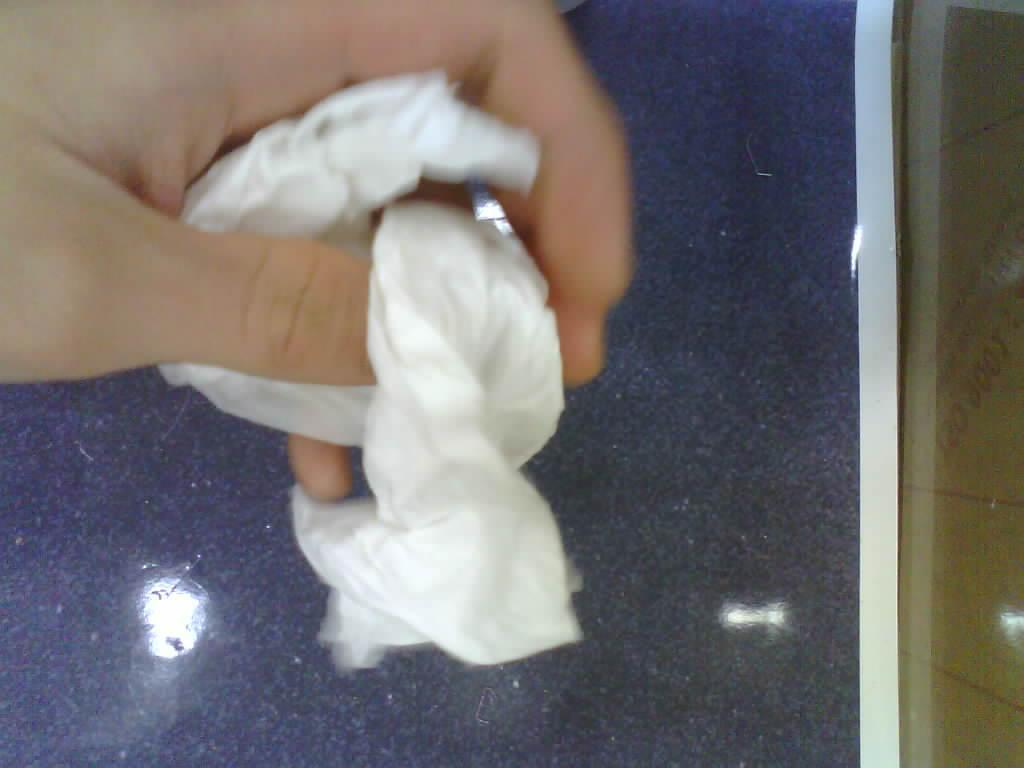paper: (149, 73, 581, 675)
